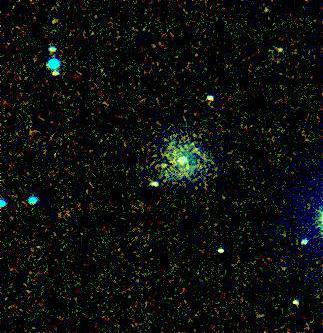star: (150, 151, 180, 181)
